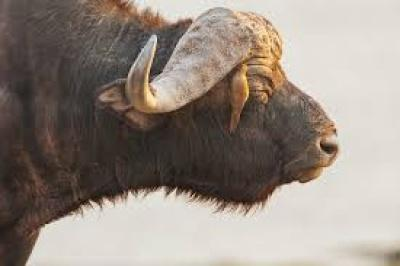buffalo: (0, 0, 337, 265)
